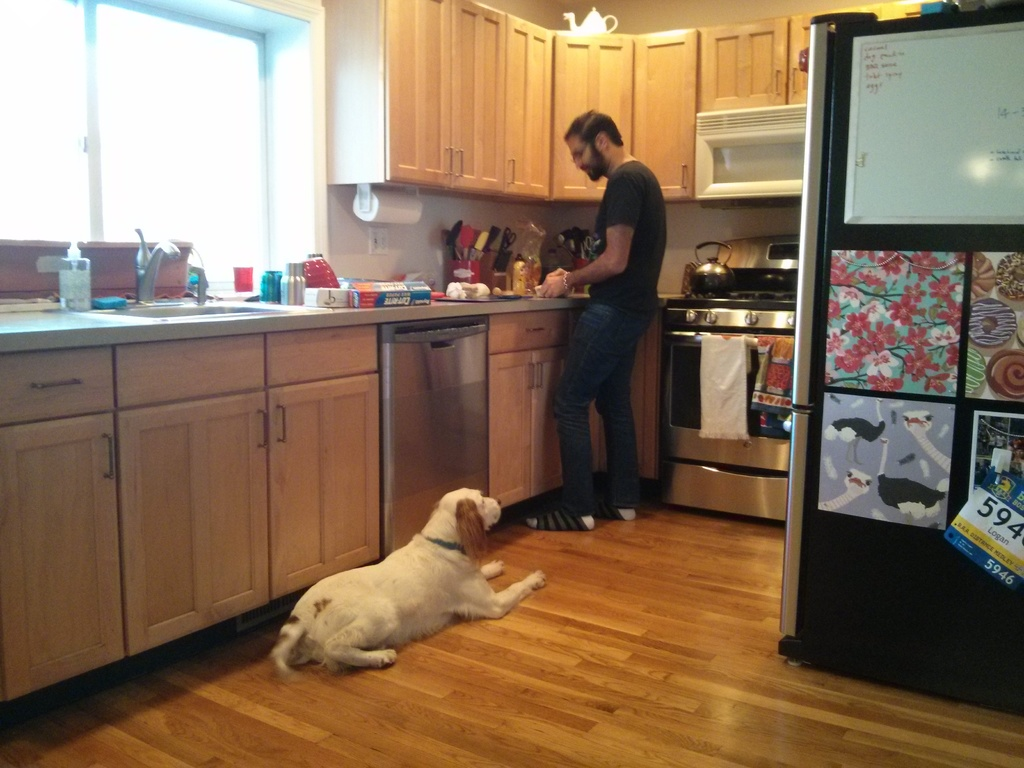cabinet door: (2, 422, 122, 659), (126, 403, 268, 595), (271, 386, 370, 566), (388, 2, 452, 180), (454, 7, 503, 189), (506, 19, 553, 196), (638, 45, 692, 196), (6, 351, 118, 415), (706, 27, 790, 101), (497, 356, 534, 487), (494, 317, 559, 349)
handle: (28, 375, 88, 391), (251, 407, 271, 452), (274, 402, 290, 446), (103, 430, 116, 479), (780, 411, 797, 445), (770, 67, 786, 102), (441, 140, 454, 182), (454, 141, 466, 186), (675, 162, 690, 195), (506, 160, 518, 186), (536, 362, 546, 391), (525, 364, 537, 387), (525, 327, 546, 340)
refrigerator door: (796, 32, 822, 410), (778, 409, 806, 644)
